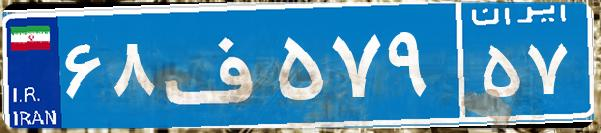5: (273, 28, 330, 110), (475, 38, 525, 113)
6: (57, 26, 110, 107)
7: (330, 28, 385, 110), (525, 38, 570, 115)
8: (110, 28, 158, 105)
9: (385, 28, 445, 110)
ف: (158, 15, 273, 115)
